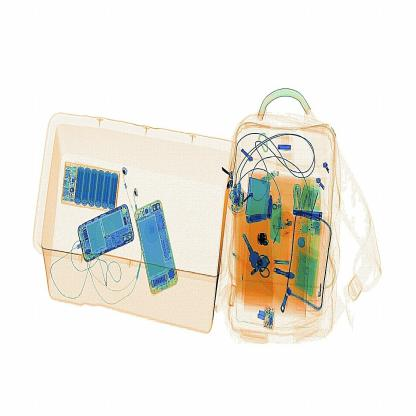scissors: (254, 229, 270, 248)
